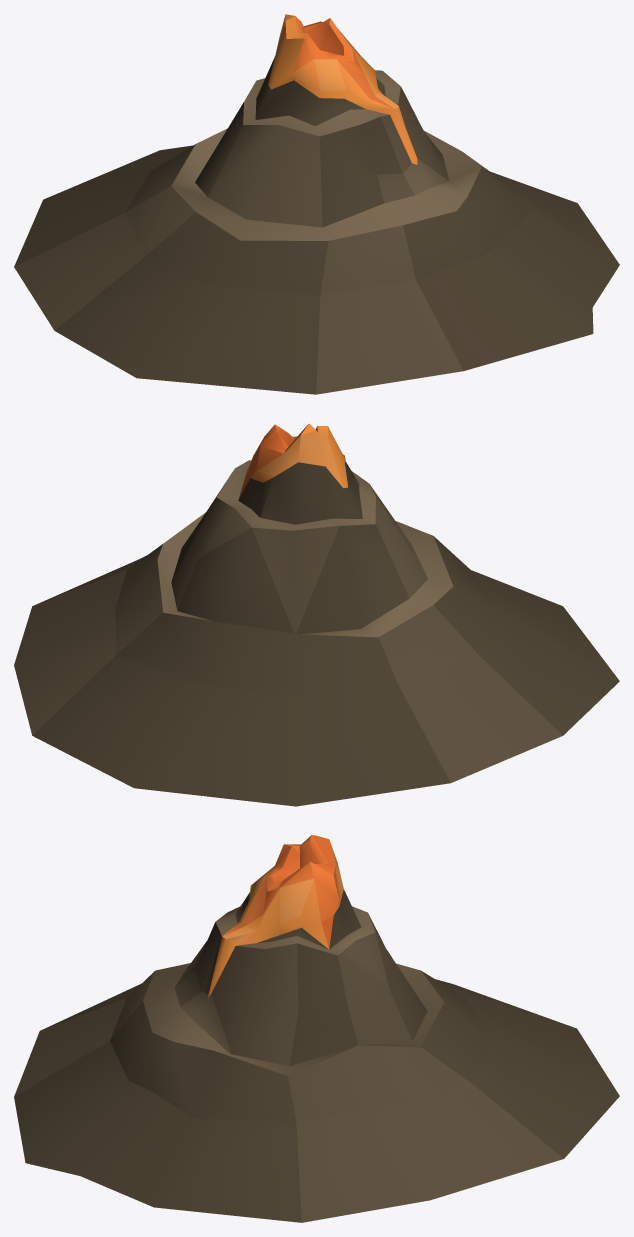
File: RW_HG_Environment_Volcano.fbx
3 views of the same model, one above another, from view 1: azimuth 30°, elevation 25°; view 2: azimuth 150°, elevation 25°; view 3: azimuth 270°, elevation 25° (orthographic).
Parts seen in each view (by area): view 1: WW_HG_Environment_Volcano; view 2: WW_HG_Environment_Volcano; view 3: WW_HG_Environment_Volcano.
Boxes of the visible parts, x1,y1,x2,y2 form: WW_HG_Environment_Volcano: (14, 14, 619, 394); WW_HG_Environment_Volcano: (14, 423, 619, 806); WW_HG_Environment_Volcano: (14, 835, 619, 1222).
Bounding box in the file's own units: 4.97 × 2.28 × 4.98.
